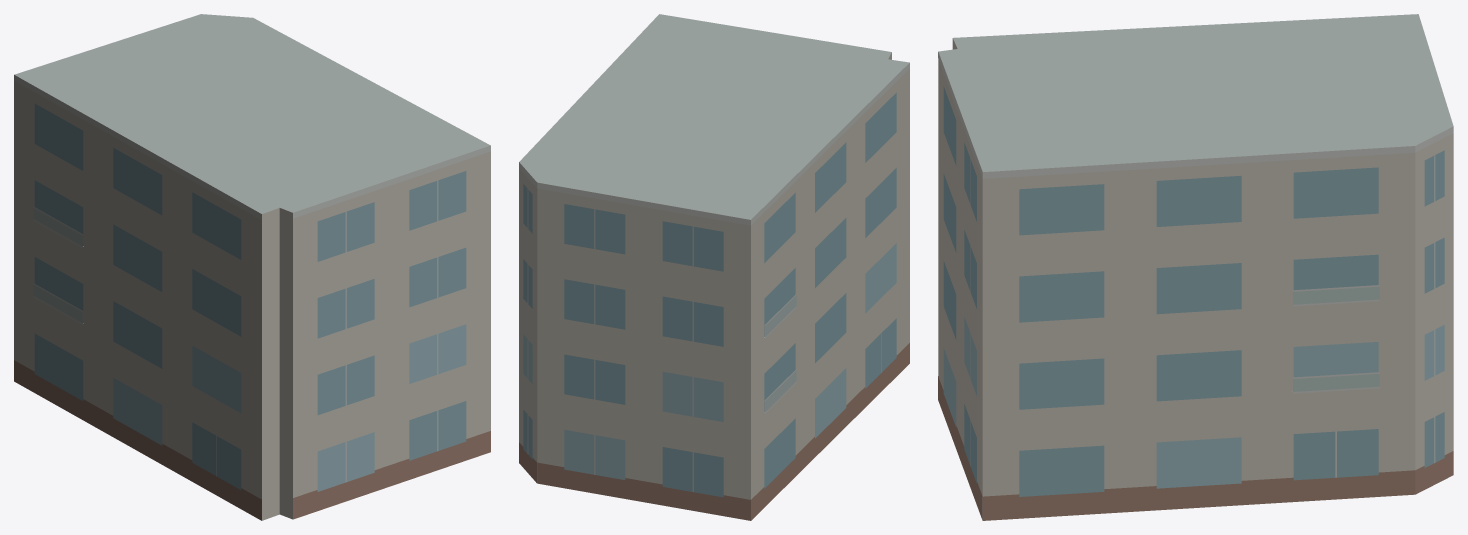
Rendered from survey-upis-32926202.glb.
3 renders of one model, left to right at view 1: azimuth 30°, elevation 25°; view 2: azimuth 150°, elevation 25°; view 3: azimuth 270°, elevation 25°, orthographic. The views are drawn at different scales.
Visible parts, largest first — view 1: survey-upis-32926202.tmp; view 2: survey-upis-32926202.tmp; view 3: survey-upis-32926202.tmp.
Boxes of the visible parts, x1=… form: survey-upis-32926202.tmp: x1=14, y1=14, x2=490, y2=520; survey-upis-32926202.tmp: x1=519, y1=14, x2=909, y2=520; survey-upis-32926202.tmp: x1=938, y1=14, x2=1453, y2=520.
Size of the model in its own units: 12.26 by 12.6 by 16.89.
